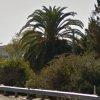Palm tree: (19, 4, 81, 80)
